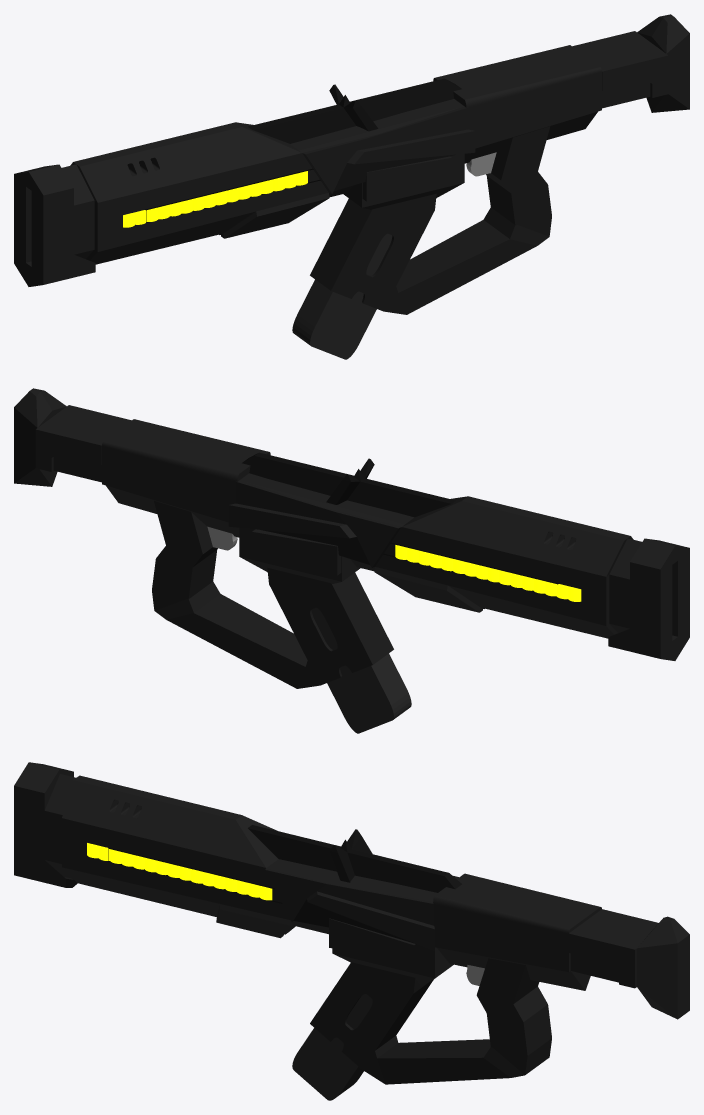
The model's file is gun3.fbx.
The picture shows the model from 3 angles, top to bottom: view 1: azimuth 30°, elevation 25°; view 2: azimuth 150°, elevation 25°; view 3: azimuth 330°, elevation 25°; orthographic projection.
Parts seen in each view (by area): view 1: Cube, Cube.002, Cube.004, Cube.003, Cylinder.001; view 2: Cube, Cube.002, Cube.004, Cube.003, Cylinder.001; view 3: Cube, Cube.002, Cube.004, Cube.003, Cylinder.001.
Part boxes in pixels (box(x1,y1,x2,y2)): Cube: box(14, 14, 689, 286); Cube.002: box(310, 126, 551, 314); Cube.004: box(248, 78, 461, 143); Cube.003: box(292, 233, 392, 359); Cylinder.001: box(123, 171, 307, 227); Cube: box(14, 388, 689, 660); Cube.002: box(152, 501, 393, 688); Cube.004: box(242, 452, 455, 517); Cube.003: box(312, 607, 411, 733); Cylinder.001: box(395, 545, 581, 601); Cube: box(14, 762, 689, 1019); Cube.002: box(310, 958, 551, 1084); Cube.004: box(248, 825, 461, 892); Cube.003: box(292, 994, 372, 1100); Cylinder.001: box(87, 843, 272, 900).
Bounding box in the file's own units: 1219 × 460 × 151.
